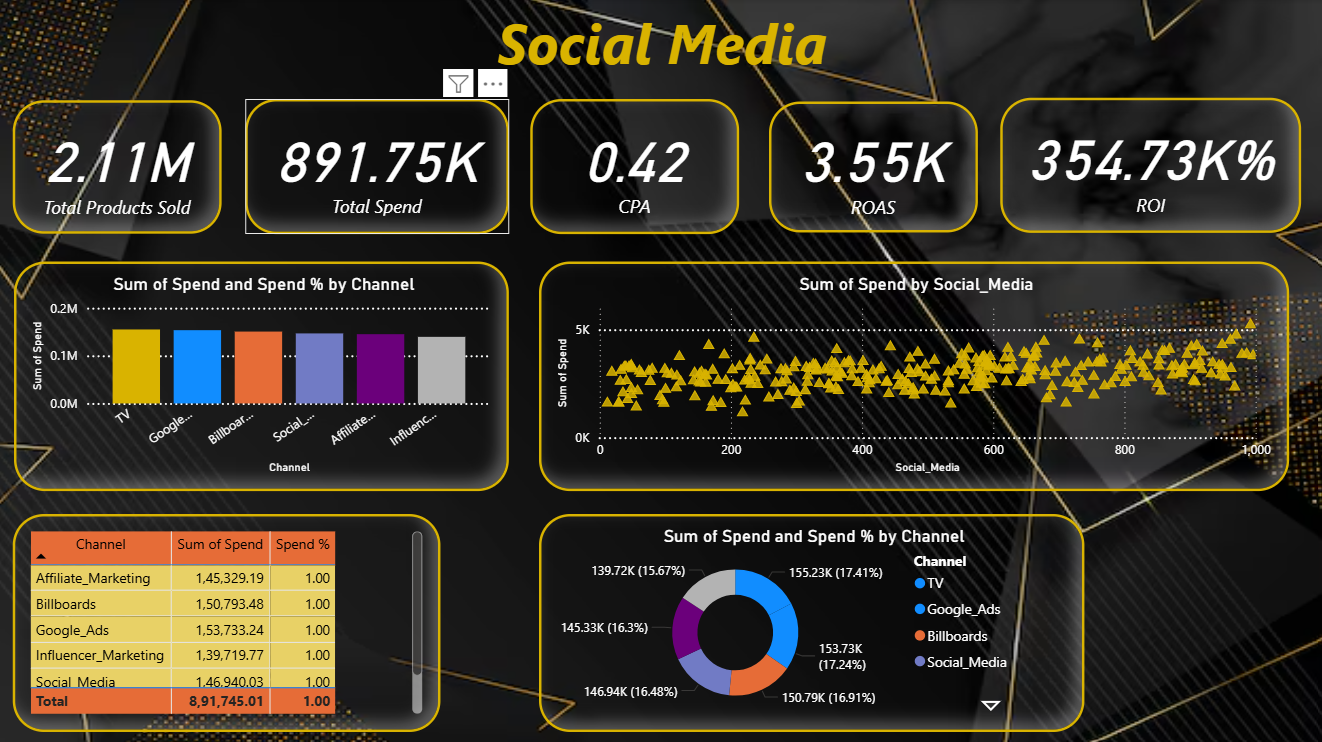

This screenshot's page, from the dashboard's own definition file:
{"tool":"powerbi","page":{"name":"social media","canvas":[1280,720],"ordinal":0},"visuals":[{"type":"card","fields":{"Values":["measure.Total Products Sold"]},"box":[13.3,97.7,201.5,129.1],"z":0},{"type":"card","fields":{"Values":["measure.Total Spend"]},"box":[237.7,96.5,254.6,130.3],"z":1000},{"type":"card","fields":{"Values":["measure.CPA"]},"box":[512.7,96.5,201.5,130.3],"z":2000},{"type":"card","fields":{"Values":["measure.ROAS"]},"box":[743.2,98.9,201.5,126.7],"z":3000},{"type":"card","fields":{"Values":["measure.ROI"]},"box":[966.4,95.3,290.8,130.3],"z":4000},{"type":"clusteredColumnChart","fields":{"Y":["Sum(Ads Spend.Spend)"],"Category":["Ads Spend.Channel"]},"box":[14.5,253.4,477.8,222],"z":5000},{"type":"scatterChart","fields":{"X":["Ads Base.Social_Media"],"Y":["Sum(Ads Spend.Spend)"]},"box":[521.2,253.4,723.9,222],"z":6000},{"type":"tableEx","fields":{"Values":["Ads Spend.Channel","Sum(Ads Spend.Spend)","measure.Spend %"]},"box":[13.8,497.5,412.5,210],"z":7000},{"type":"donutChart","fields":{"Category":["Ads Spend.Channel"],"Y":["Sum(Ads Spend.Spend)"]},"box":[521.2,497.5,526.2,210],"z":8000},{"type":"textbox","box":[0,0,1280,86.9],"z":9000}]}

Visuals, with their boxes in screenshot pixels (x1, y1, x2, y2), scaled from the page's 1280x720 canvas onto the 1322x742 screenshot:
card - measure.Total Products Sold: locate(14, 101, 222, 234)
card - measure.Total Spend: locate(245, 99, 508, 234)
card - measure.CPA: locate(530, 99, 738, 234)
card - measure.ROAS: locate(768, 102, 976, 232)
card - measure.ROI: locate(998, 98, 1298, 232)
clusteredColumnChart - Sum(Ads Spend.Spend) x Ads Spend.Channel: locate(15, 261, 508, 490)
scatterChart - Ads Base.Social_Media x Sum(Ads Spend.Spend): locate(538, 261, 1286, 490)
tableEx - Ads Spend.Channel x Sum(Ads Spend.Spend): locate(14, 513, 440, 729)
donutChart - Ads Spend.Channel x Sum(Ads Spend.Spend): locate(538, 513, 1082, 729)
textbox: locate(0, 0, 1321, 90)
